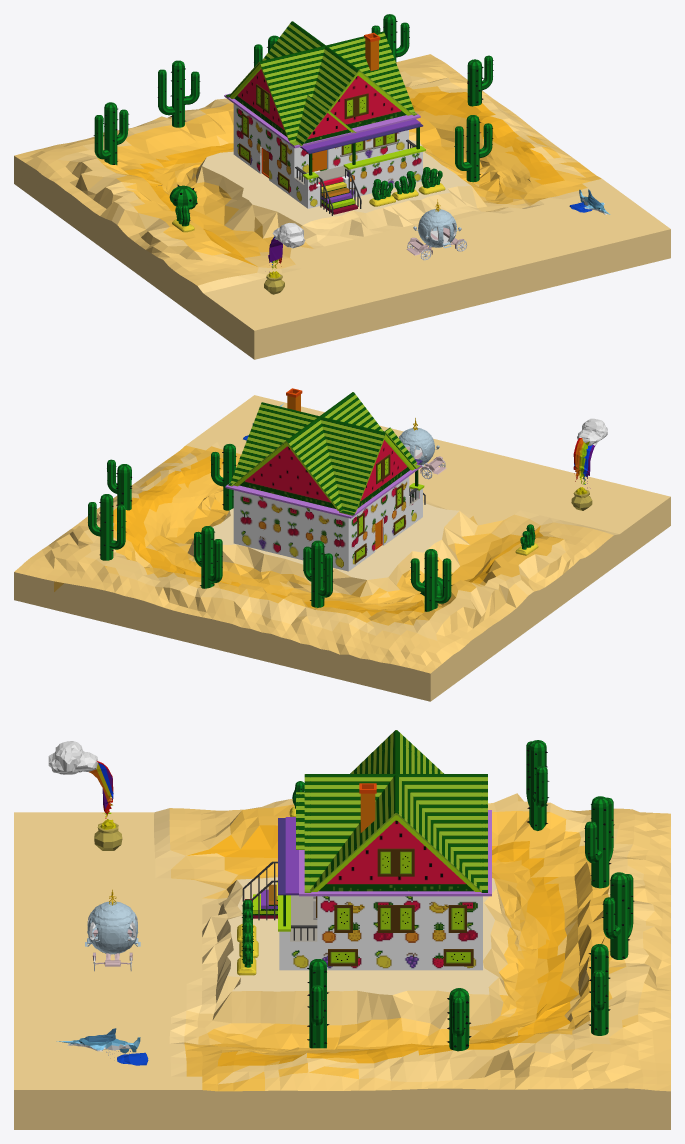
3 views of the same model, one above another, from view 1: azimuth 30°, elevation 25°; view 2: azimuth 150°, elevation 25°; view 3: azimuth 270°, elevation 25° (orthographic). The views are drawn at different scales.
Parts seen in each view (by area): view 1: Cube.001, Cube.1063, VEHICLES_FANTASY_CARRIAGE, Cylinder.037, Cylinder.044, Cylinder.045, OBJRANDOM_RAINBOW, Cylinder.038, Cylinder.042, Cylinder.039, Cylinder.041, Sphere.023 (+1 smaller); view 2: Cube.001, Cube.1063, Cylinder.042, Cylinder.045, OBJRANDOM_RAINBOW, Cylinder.044, Cylinder.043, VEHICLES_FANTASY_CARRIAGE, Cylinder.037, Cylinder.038; view 3: Cube.001, Cube.1063, VEHICLES_FANTASY_CARRIAGE, OBJRANDOM_RAINBOW, Cylinder.043, Cylinder.044, Cylinder.045, Cylinder.042, Cylinder.037, Cylinder.038, ANIMAL_PEZ_ESPADA, Cylinder.041.
Boxes of the visible parts, left/top/right/bottom form: Cube.001: left=14, top=54, right=670, bottom=359; Cube.1063: left=224, top=21, right=425, bottom=215; VEHICLES_FANTASY_CARRIAGE: left=406, top=199, right=467, bottom=260; Cylinder.037: left=454, top=115, right=493, bottom=182; Cylinder.044: left=157, top=60, right=200, bottom=127; Cylinder.045: left=93, top=102, right=129, bottom=164; OBJRANDOM_RAINBOW: left=264, top=223, right=305, bottom=294; Cylinder.038: left=467, top=55, right=493, bottom=106; Cylinder.042: left=371, top=14, right=409, bottom=62; Cylinder.039: left=369, top=179, right=395, bottom=206; Cylinder.041: left=418, top=167, right=445, bottom=194; Sphere.023: left=169, top=184, right=197, bottom=209; Cube.001: left=14, top=395, right=670, bottom=701; Cube.1063: left=225, top=388, right=425, bottom=571; Cylinder.042: left=88, top=494, right=126, bottom=560; Cylinder.045: left=410, top=549, right=452, bottom=611; OBJRANDOM_RAINBOW: left=571, top=418, right=607, bottom=510; Cylinder.044: left=303, top=540, right=333, bottom=607; Cylinder.043: left=193, top=526, right=222, bottom=588; VEHICLES_FANTASY_CARRIAGE: left=398, top=418, right=446, bottom=479; Cylinder.037: left=211, top=444, right=240, bottom=510; Cylinder.038: left=107, top=459, right=131, bottom=510; Cube.001: left=14, top=793, right=670, bottom=1129; Cube.1063: left=242, top=730, right=491, bottom=970; VEHICLES_FANTASY_CARRIAGE: left=85, top=889, right=140, bottom=971; OBJRANDOM_RAINBOW: left=48, top=741, right=122, bottom=850; Cylinder.043: left=602, top=872, right=634, bottom=959; Cylinder.044: left=584, top=796, right=614, bottom=888; Cylinder.045: left=526, top=740, right=549, bottom=830; Cylinder.042: left=588, top=944, right=610, bottom=1035; Cylinder.037: left=307, top=959, right=329, bottom=1048; Cylinder.038: left=447, top=988, right=471, bottom=1051; ANIMAL_PEZ_ESPADA: left=56, top=1028, right=148, bottom=1065; Cylinder.041: left=237, top=932, right=256, bottom=975.
Bounding box in the file's own units: 4002 × 1600 × 4001.
Materials: 33 (4 with a texture image).
